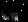person: (10, 11, 18, 21), (4, 9, 10, 20)
